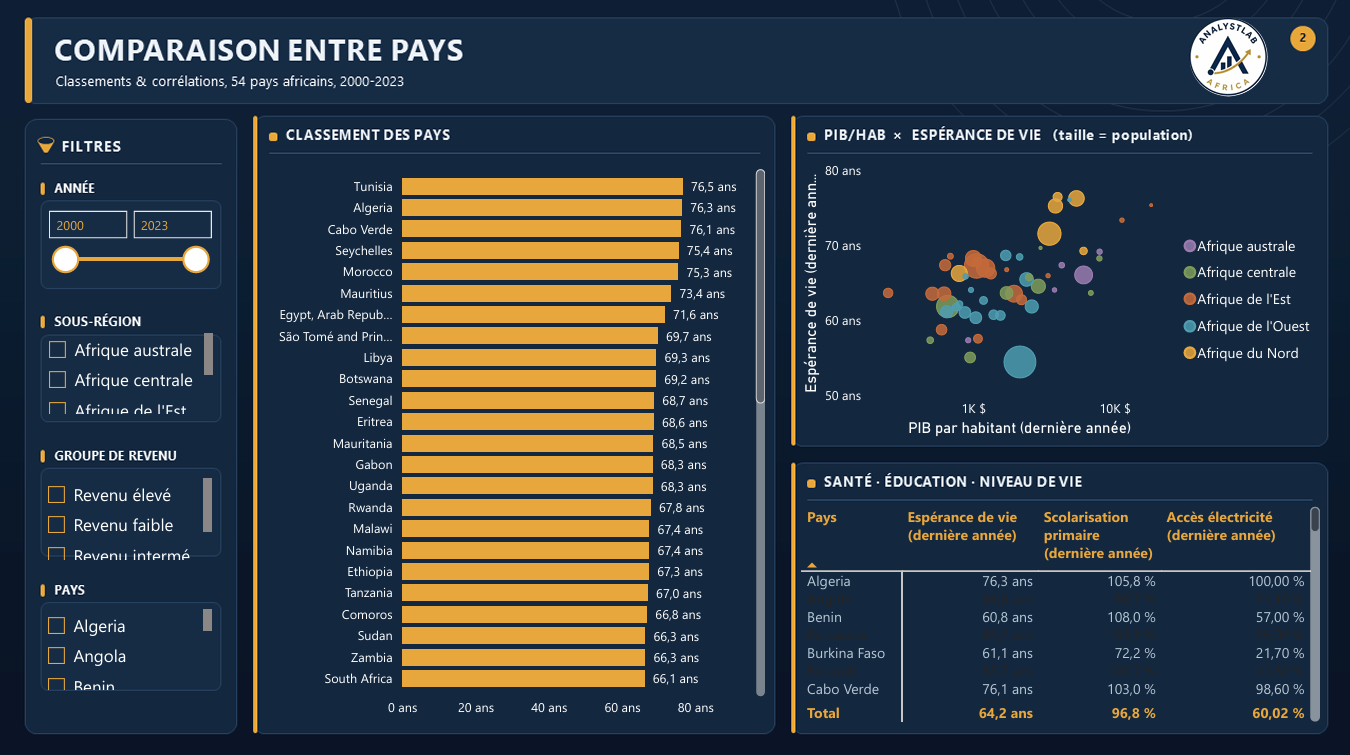

What the dashboard file says about the page in this screenshot:
{"tool":"powerbi","page":{"name":"Page 2","canvas":[1280,720],"ordinal":1},"visuals":[{"type":"slicer","fields":{"Values":["FaitAfrique.Year"]},"box":[33.6,190.2,173.4,78.3],"z":0},{"type":"slicer","fields":{"Values":["FaitAfrique.SubRegion"]},"box":[33.6,311.3,173.4,85.8],"z":1000},{"type":"slicer","fields":{"Values":["FaitAfrique.IncomeGroupFR"]},"box":[33.3,448.5,172.7,86.4],"z":2000},{"type":"slicer","fields":{"Values":["FaitAfrique.Country"]},"box":[32.8,571.9,173.4,85.9],"z":3000},{"type":"image","box":[1125,10.9,75,87.5],"z":4000},{"type":"barChart","fields":{"Category":["FaitAfrique.Country"],"Y":["_Mesures.Espérance de vie (dernière année)"]},"box":[247.7,147.7,481.5,540],"z":5000},{"type":"scatterChart","fields":{"Category":["FaitAfrique.Country"],"Series":["FaitAfrique.SubRegion"],"Size":["_Mesures.Population (dernière année)"],"X":["_Mesures.PIB par habitant (dernière année)"],"Y":["_Mesures.Espérance de vie (dernière année)"]},"box":[753.8,147.7,500,270.8],"z":6000},{"type":"pivotTable","fields":{"Rows":["FaitAfrique.Country"],"Values":["_Mesures.Espérance de vie (dernière année)","_Mesures.Scolarisation primaire (dernière année)","_Mesures.Accès électricité (dernière année)"]},"box":[753.8,475.4,500,212.3],"z":7000}]}

Visuals, with their boxes in screenshot pixels (x1, y1, x2, y2), scaled from the page's 1280x720 canvas onto the 1350x755 screenshot:
slicer - FaitAfrique.Year: 35,199,218,282
slicer - FaitAfrique.SubRegion: 35,326,218,416
slicer - FaitAfrique.IncomeGroupFR: 35,470,217,561
slicer - FaitAfrique.Country: 35,600,217,690
image: 1187,11,1266,103
barChart - FaitAfrique.Country x _Mesures.Espérance de vie (dernière année): 261,155,769,721
scatterChart - FaitAfrique.Country x FaitAfrique.SubRegion: 795,155,1322,439
pivotTable - FaitAfrique.Country x _Mesures.Espérance de vie (dernière année): 795,499,1322,721
